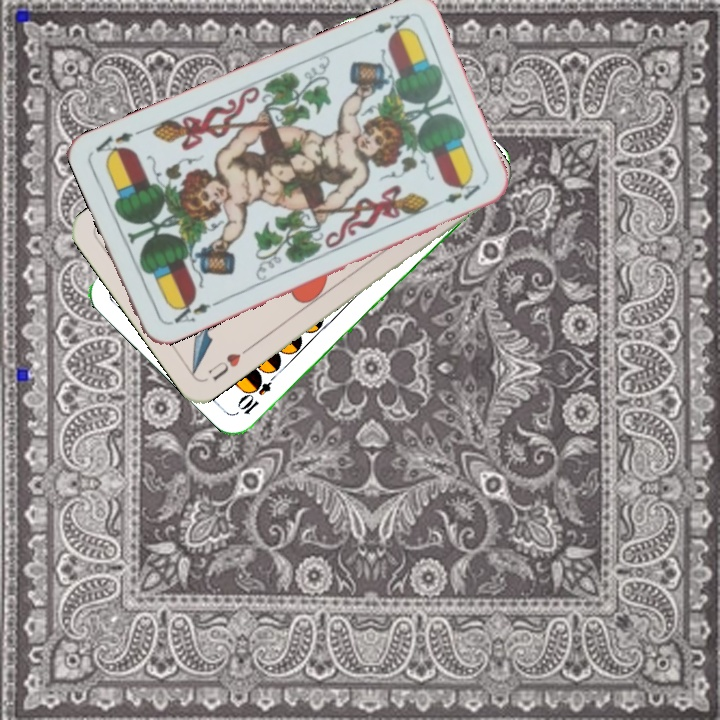E10: (234, 366, 281, 417)
EA: (164, 295, 220, 328), (357, 10, 413, 41)
HU: (204, 343, 253, 383)
